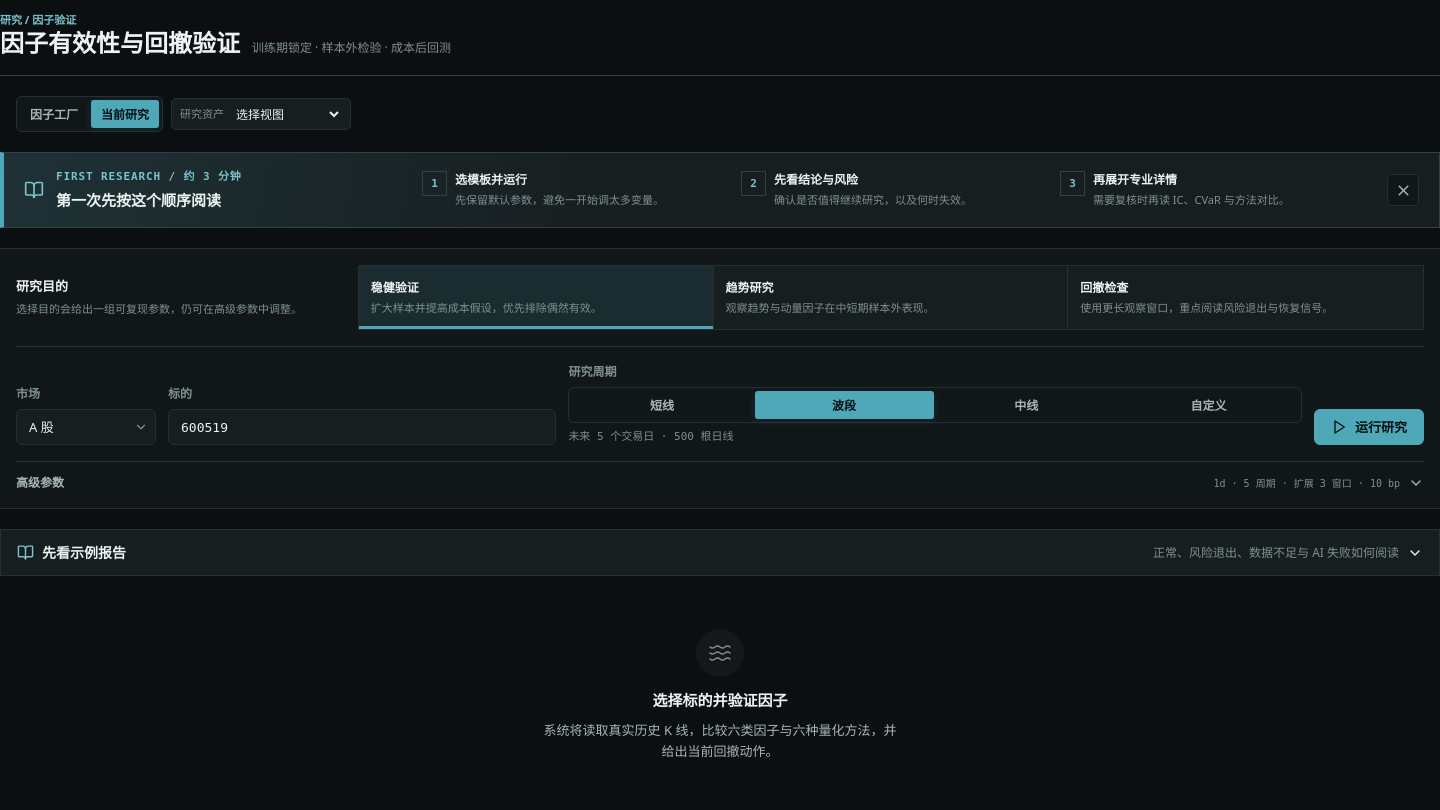
FactorResearchPage › keeps the statistical result readable when the AI review fails
Click the button "运行研究" at point(1369, 427), box [1314,409,1424,445]
(page scrolled)
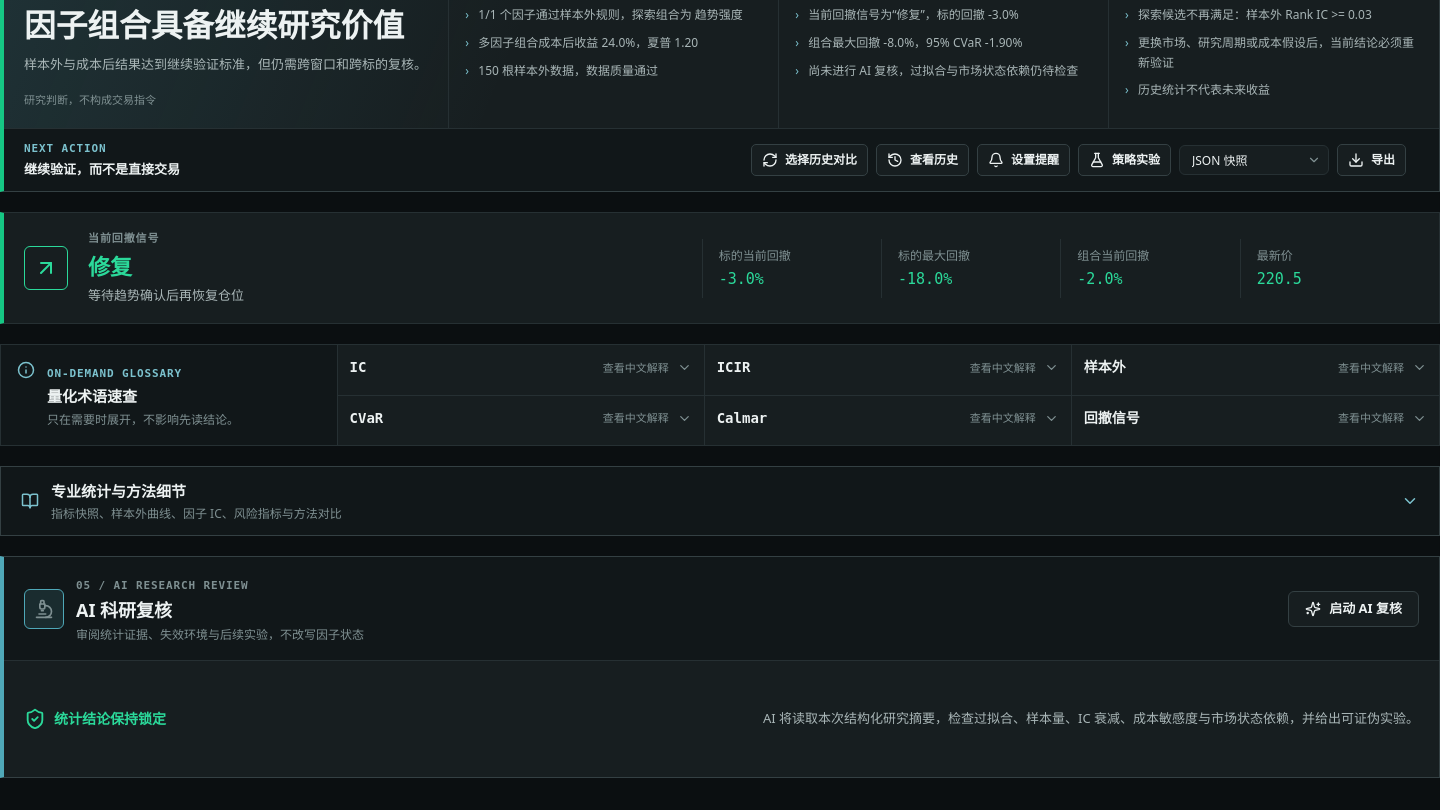
Expected: the heading "因子组合具备继续研究价值" is shown, [24,7,428,42]
Click the button "启动 AI 复核" at point(1354, 609), box [1288,591,1419,627]
(page scrolled)
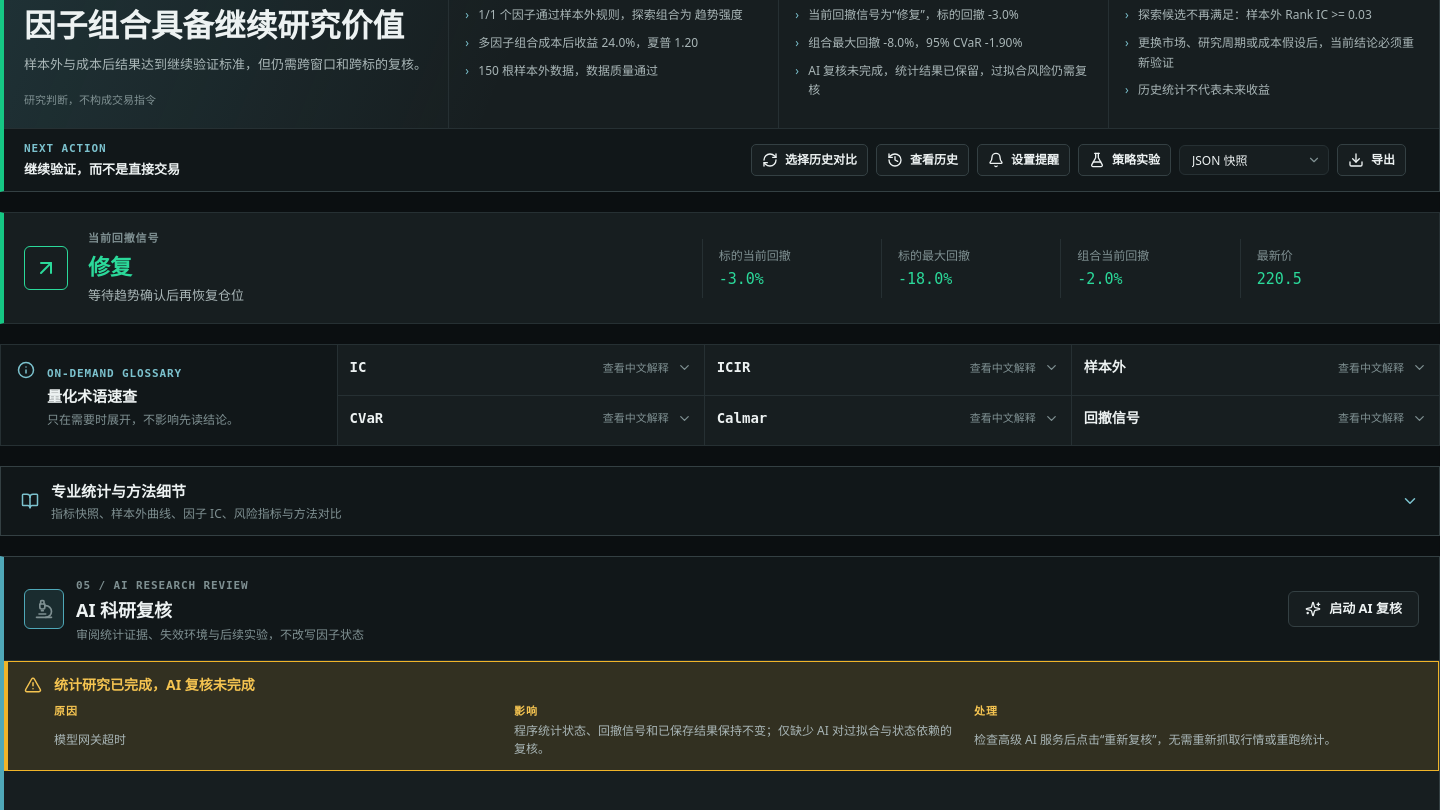
Expected: the text "统计研究已完成，AI 复核未完成" is shown, [54,675,255,694]
Expected: the text "模型网关超时" is shown, [54,731,126,748]
Expected: the list item "AI 复核未完成，统计结果已保留，过拟合风险仍需复核" is shown, [795,61,1092,100]
